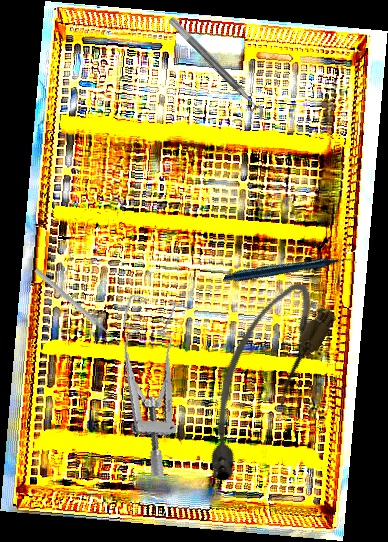Cannula: (173, 271, 343, 493)
Fixation Ring: (159, 15, 269, 128)
Handpiece: (222, 208, 358, 334)
Pusher: (33, 267, 122, 346)
Speculum: (90, 291, 205, 479)
